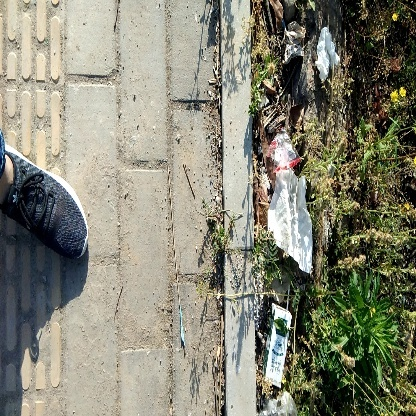milk-box: (261, 303, 293, 390)
plastic-bag: (264, 127, 316, 270)
